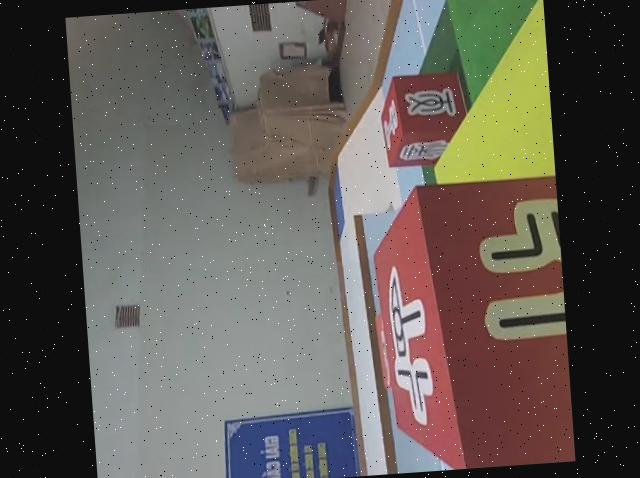R2 Fake: (369, 63, 477, 168)
R2 Real: (368, 171, 575, 474)
